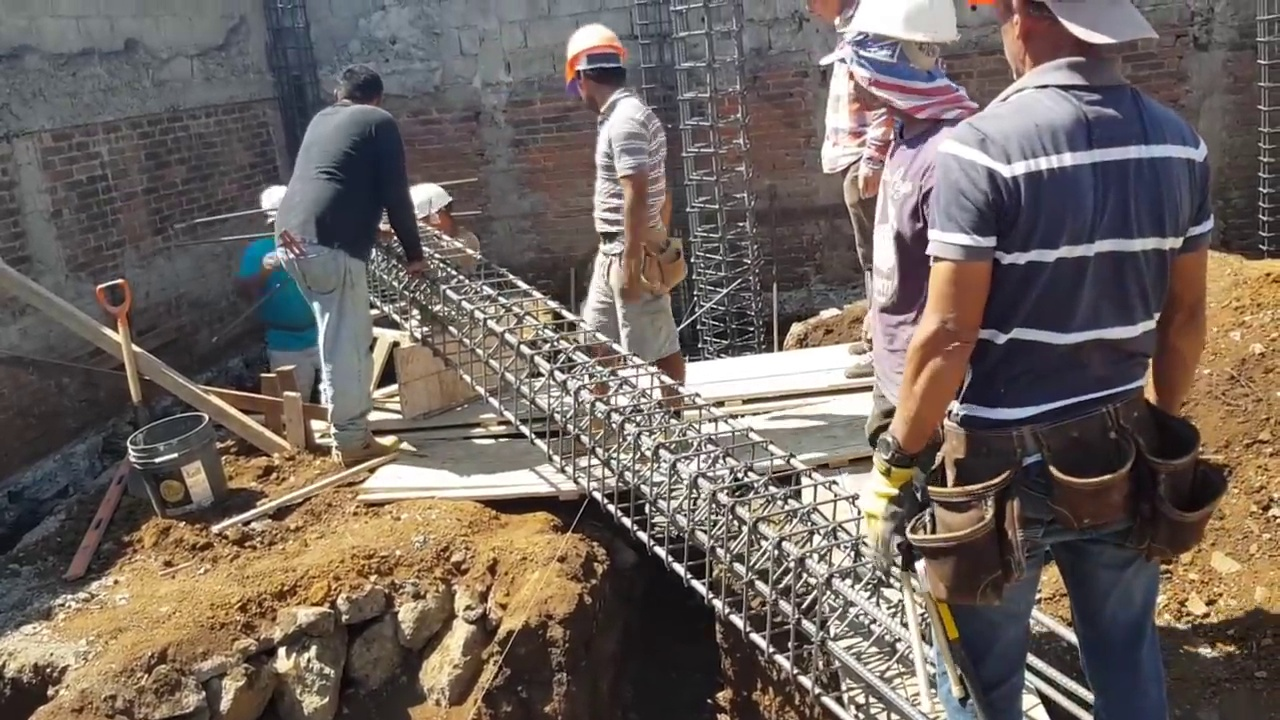helmet: (839, 2, 962, 45), (562, 24, 628, 87), (408, 182, 453, 220), (259, 185, 288, 217)
helmet-off: (990, 0, 1158, 84), (333, 65, 385, 107), (802, 1, 844, 21)
helmet-on: (841, 0, 969, 124), (562, 23, 634, 110), (408, 181, 460, 238), (258, 185, 288, 234)
person: (875, 3, 1212, 720), (272, 66, 424, 457), (565, 22, 696, 437), (843, 0, 972, 378), (236, 183, 329, 402), (803, 3, 873, 291), (409, 180, 480, 274)
